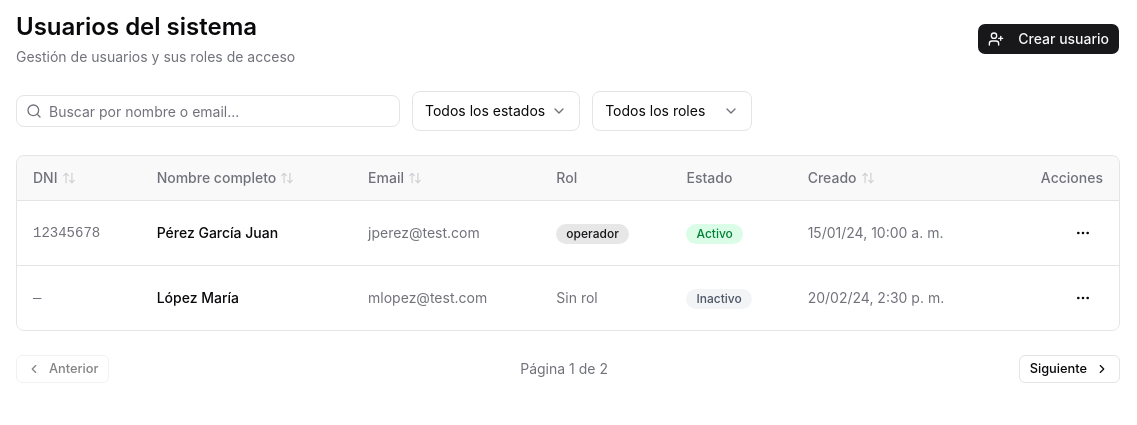
Test: PaginaUsuarios › DropdownMenu muestra todas las acciones con permisos editar + eliminar
This screenshot has width=1137, height=425.
Click the button named "acciones para". click: point(1083, 233)
box: left=1063, top=213, right=1103, bottom=253
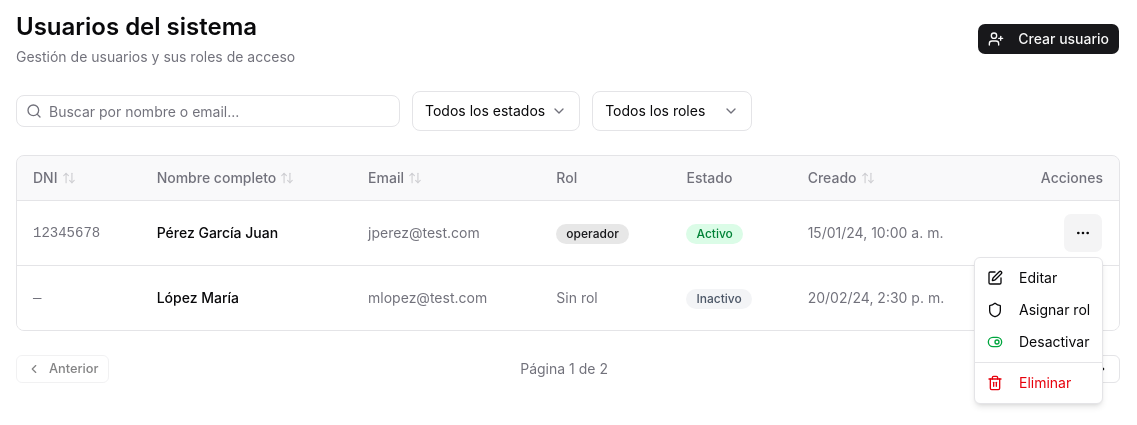
Now the menu item "Editar" is shown, box left=987, top=269, right=1057, bottom=286
Now the menu item "Asignar rol" is shown, box left=987, top=301, right=1090, bottom=318
Now the menu item "Desactivar" is shown, box left=987, top=333, right=1089, bottom=350
